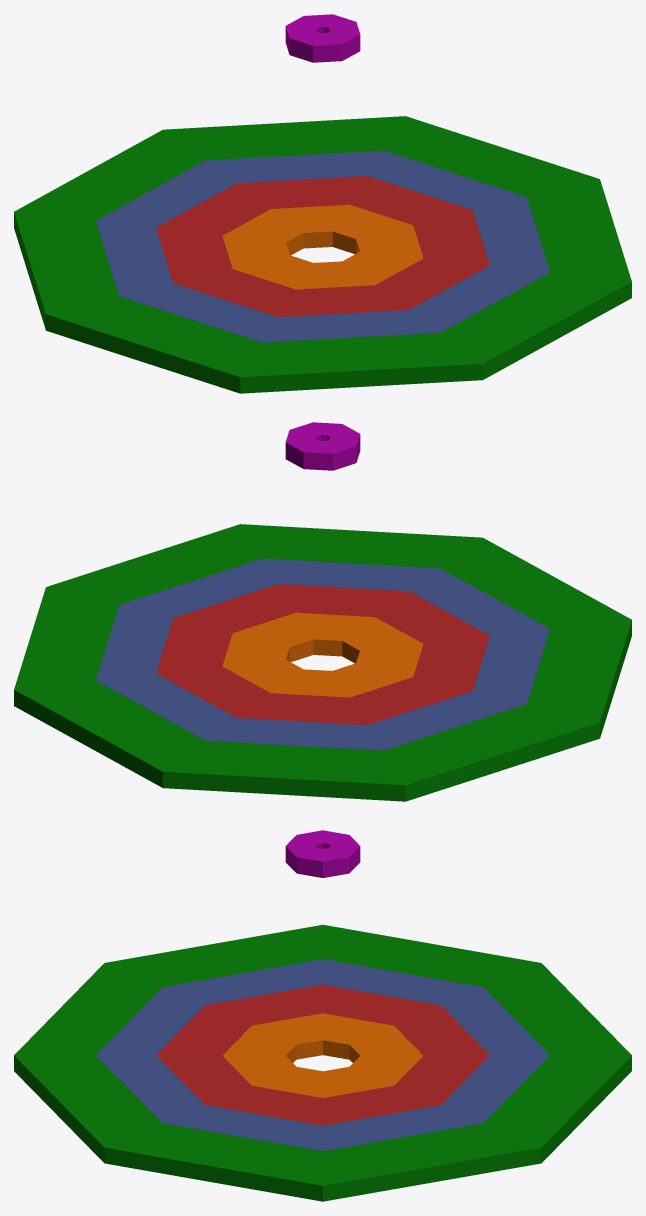
File: Levelspecific.fbx
3 views of the same model, one above another, from view 1: azimuth 30°, elevation 25°; view 2: azimuth 150°, elevation 25°; view 3: azimuth 270°, elevation 25° (orthographic). The views are drawn at different scales.
Parts seen in each view (by area): view 1: Greenv4_4, Greenv4_5, Greenv4_3, Greenv4_6, Greenv4_8, Greenv4_1, Greenv4_7, Greenv4_2, Bluev4_5, Bluev4_6, Bluev4_1, Bluev4_2 (+21 smaller); view 2: Greenv4_7, Greenv4_6, Greenv4_8, Greenv4_5, Greenv4_3, Greenv4_2, Greenv4_4, Greenv4_1, Bluev4_8, Bluev4_7, Bluev4_4, Bluev4_3 (+21 smaller); view 3: Greenv4_1, Greenv4_2, Greenv4_3, Greenv4_8, Greenv4_5, Greenv4_6, Greenv4_4, Greenv4_7, Bluev4_2, Bluev4_3, Bluev4_6, Bluev4_7 (+21 smaller).
Part boxes in pixels (x1=…): Greenv4_4: x1=240, y1=333, x2=482, y2=393; Greenv4_5: x1=46, y1=296, x2=261, y2=393; Greenv4_3: x1=441, y1=272, x2=631, y2=379; Greenv4_6: x1=14, y1=211, x2=118, y2=329; Greenv4_8: x1=163, y1=116, x2=405, y2=160; Greenv4_1: x1=384, y1=116, x2=599, y2=196; Greenv4_7: x1=14, y1=130, x2=204, y2=220; Greenv4_2: x1=527, y1=179, x2=631, y2=281; Bluev4_5: x1=262, y1=310, x2=440, y2=342; Bluev4_6: x1=119, y1=283, x2=277, y2=342; Bluev4_1: x1=206, y1=150, x2=383, y2=183; Bluev4_2: x1=368, y1=150, x2=525, y2=209; Greenv4_7: x1=163, y1=741, x2=405, y2=801; Greenv4_6: x1=384, y1=704, x2=599, y2=801; Greenv4_8: x1=14, y1=680, x2=204, y2=787; Greenv4_5: x1=527, y1=619, x2=631, y2=737; Greenv4_3: x1=240, y1=524, x2=482, y2=568; Greenv4_2: x1=46, y1=524, x2=261, y2=604; Greenv4_4: x1=441, y1=538, x2=631, y2=628; Greenv4_1: x1=14, y1=587, x2=118, y2=689; Bluev4_8: x1=205, y1=718, x2=383, y2=750; Bluev4_7: x1=368, y1=691, x2=526, y2=750; Bluev4_4: x1=262, y1=558, x2=439, y2=591; Bluev4_3: x1=120, y1=558, x2=277, y2=617; Greenv4_1: x1=323, y1=1123, x2=541, y2=1201; Greenv4_2: x1=104, y1=1123, x2=322, y2=1201; Greenv4_3: x1=14, y1=1055, x2=161, y2=1162; Greenv4_8: x1=484, y1=1055, x2=631, y2=1162; Greenv4_5: x1=105, y1=924, x2=322, y2=987; Greenv4_6: x1=323, y1=924, x2=540, y2=987; Greenv4_4: x1=14, y1=963, x2=161, y2=1055; Greenv4_7: x1=484, y1=963, x2=631, y2=1055; Bluev4_2: x1=323, y1=1105, x2=483, y2=1151; Bluev4_3: x1=162, y1=1105, x2=322, y2=1151; Bluev4_6: x1=163, y1=959, x2=322, y2=1005; Bluev4_7: x1=323, y1=959, x2=482, y2=1005.
Size of the model in its own units: 18898 by 7594 by 18898.
